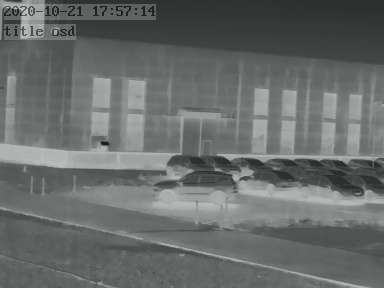vehicle: (159, 170, 241, 204), (301, 173, 361, 203), (238, 168, 304, 191), (164, 153, 212, 175), (349, 173, 383, 200), (199, 154, 240, 176), (231, 154, 270, 171), (346, 155, 381, 171), (262, 155, 296, 169), (316, 156, 348, 170), (295, 156, 325, 169)
